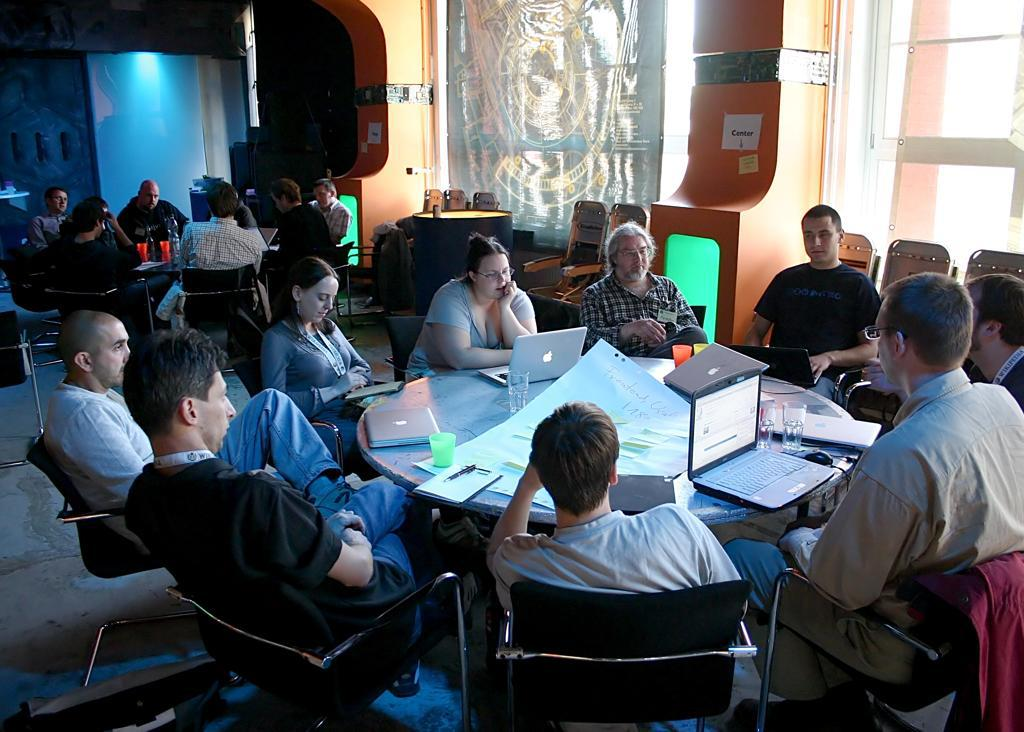face: (186, 371, 236, 451), (875, 311, 911, 385), (88, 329, 131, 385), (303, 278, 340, 323), (803, 220, 838, 261), (478, 256, 511, 299), (616, 239, 649, 282), (140, 187, 158, 210), (314, 188, 332, 207), (52, 193, 68, 212), (273, 192, 286, 212), (92, 217, 104, 238)
